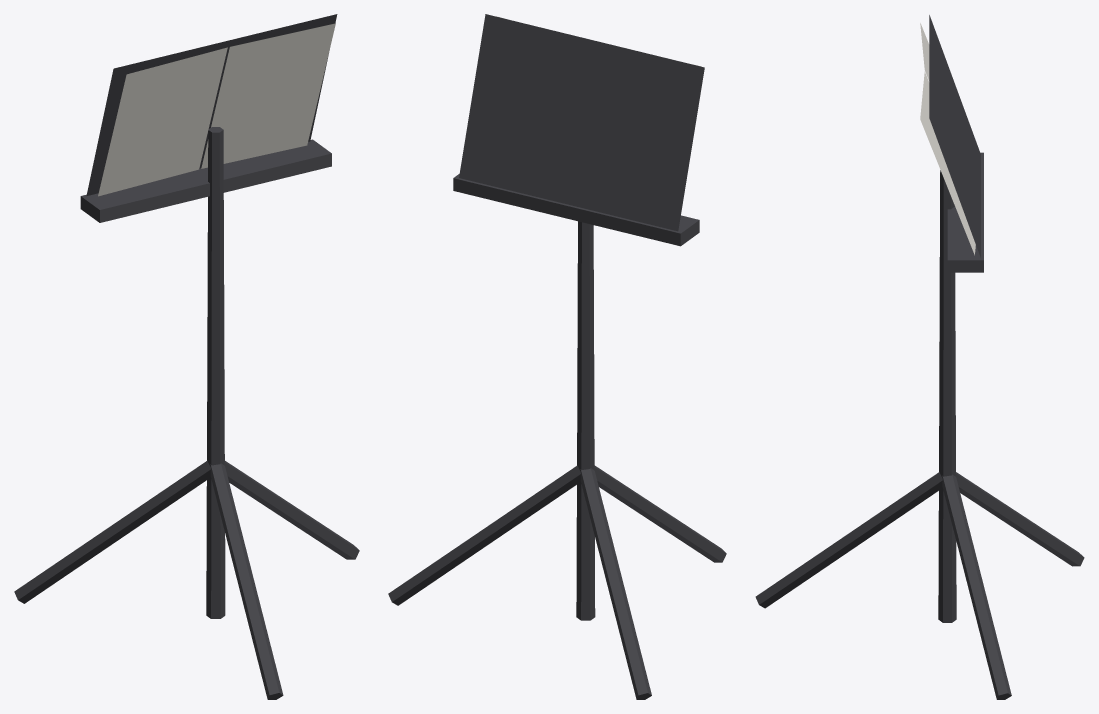
File: MusicStand.obj
3 renders of one model, left to right at view 1: azimuth 30°, elevation 25°; view 2: azimuth 150°, elevation 25°; view 3: azimuth 270°, elevation 25°, orthographic. The views are drawn at different scales.
Visible parts, largest first — view 1: MusicStand; view 2: MusicStand; view 3: MusicStand.
Part boxes in pixels (x1,y1,x2,y2): MusicStand: (14,14,359,699); MusicStand: (388,14,726,699); MusicStand: (755,15,1084,699).
Size of the model in its own units: 0.7324 by 1.35 by 0.7222.
Materials: 1 (1 with a texture image).
